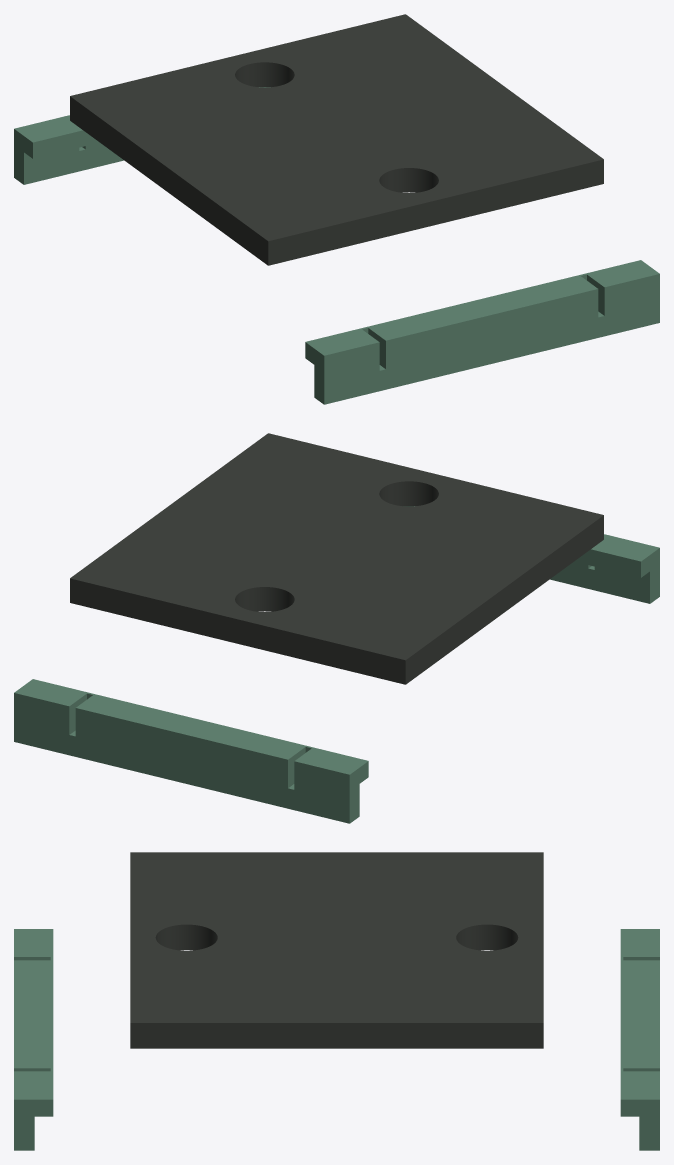
The model's file is exploded.glb.
The picture shows the model from 3 angles, top to bottom: view 1: azimuth 30°, elevation 25°; view 2: azimuth 150°, elevation 25°; view 3: azimuth 270°, elevation 25°; orthographic projection. The views are drawn at different scales.
Parts seen in each view (by area): view 1: steel-rail-foot, edge-guide-A, edge-guide-B; view 2: steel-rail-foot, edge-guide-B, edge-guide-A; view 3: steel-rail-foot, edge-guide-A, edge-guide-B.
Part boxes in pixels (left/top/right/bottom): steel-rail-foot: left=70, top=14, right=603, bottom=265; edge-guide-A: left=305, top=260, right=659, bottom=404; edge-guide-B: left=14, top=87, right=270, bottom=184; steel-rail-foot: left=70, top=433, right=603, bottom=684; edge-guide-B: left=14, top=679, right=368, bottom=823; edge-guide-A: left=403, top=506, right=659, bottom=603; steel-rail-foot: left=130, top=852, right=543, bottom=1048; edge-guide-A: left=14, top=929, right=53, bottom=1150; edge-guide-B: left=620, top=929, right=659, bottom=1150.
Size of the model in its own units: 0.043 by 0.015 by 0.0688.
